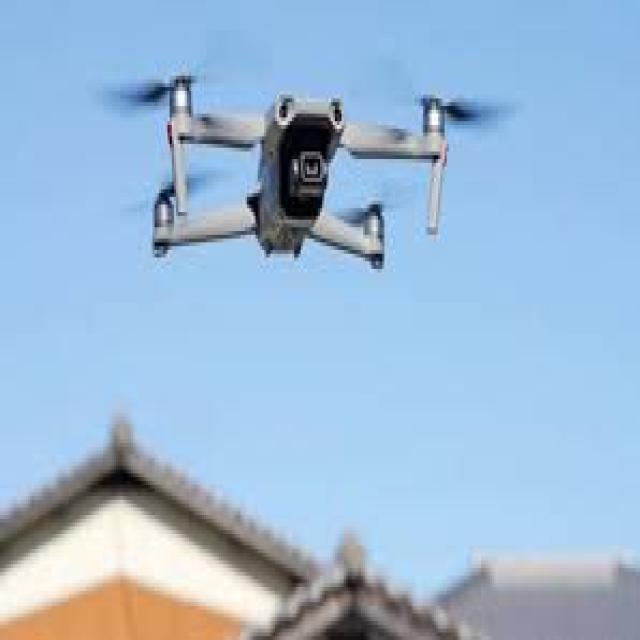drone: (103, 56, 494, 288)
